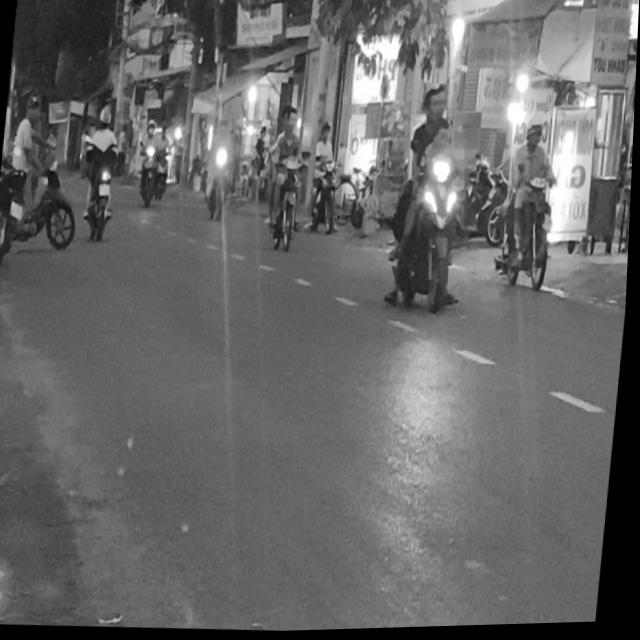helmet: (525, 115, 547, 149)
licenseplate: (380, 79, 476, 321), (495, 107, 569, 298)
motorcyclist: (428, 118, 454, 155), (423, 88, 444, 126)
